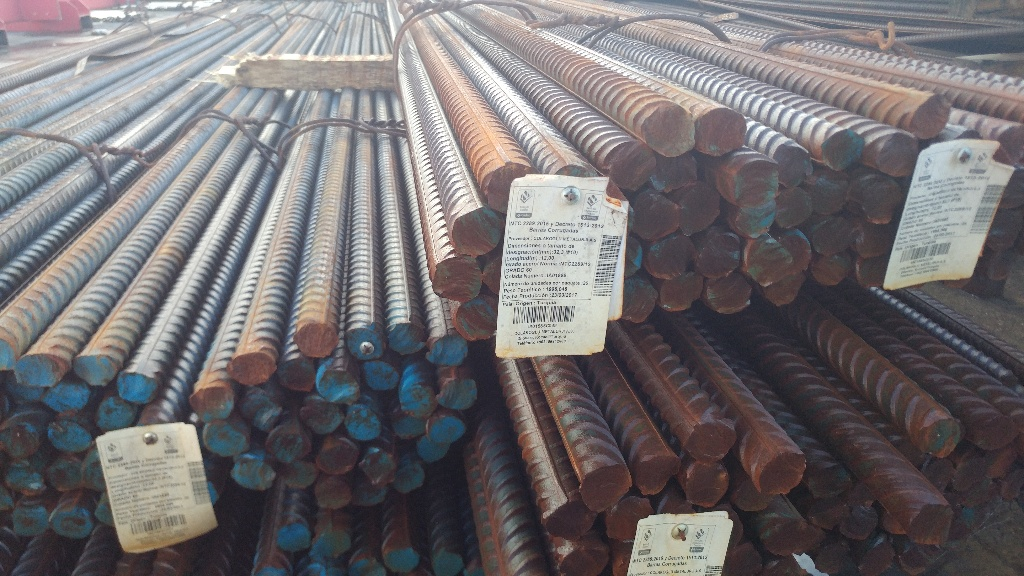dipstick: (696, 108, 747, 155), (630, 193, 680, 239), (583, 463, 631, 510), (647, 107, 693, 156), (432, 256, 481, 300), (453, 208, 498, 255), (489, 164, 534, 211), (680, 185, 721, 236), (862, 178, 906, 223), (760, 452, 806, 494), (748, 240, 790, 285), (607, 499, 654, 539), (609, 146, 655, 186), (697, 234, 740, 276), (457, 299, 501, 340), (689, 423, 735, 462), (736, 161, 776, 205), (686, 463, 727, 505), (812, 218, 858, 255), (647, 237, 688, 278), (985, 208, 1024, 251), (14, 355, 68, 386), (823, 131, 865, 170), (911, 95, 950, 137), (299, 397, 343, 434), (659, 274, 703, 311), (706, 277, 750, 314), (879, 135, 918, 176), (203, 421, 248, 456), (228, 351, 274, 385), (912, 504, 951, 544), (241, 388, 279, 429), (317, 438, 358, 476), (813, 172, 850, 214), (545, 505, 592, 538), (622, 279, 657, 322), (764, 520, 807, 555), (776, 146, 812, 187), (978, 414, 1019, 450), (317, 367, 359, 402), (72, 355, 116, 388), (736, 201, 775, 238), (776, 187, 812, 227), (811, 464, 852, 499), (267, 429, 309, 463), (636, 457, 678, 491), (901, 544, 947, 575), (560, 547, 608, 576), (6, 461, 45, 496), (923, 419, 958, 458), (191, 387, 232, 420), (295, 324, 336, 357), (653, 157, 694, 190), (1, 424, 39, 459), (857, 223, 895, 258), (46, 422, 89, 452), (811, 255, 852, 286), (95, 399, 134, 431), (47, 384, 90, 413), (234, 459, 275, 489), (346, 404, 380, 440), (51, 507, 91, 537), (388, 322, 424, 355), (842, 506, 878, 539), (363, 448, 395, 485), (439, 378, 476, 410), (346, 328, 384, 359), (115, 373, 154, 403), (48, 457, 82, 491), (316, 478, 352, 510), (727, 544, 763, 576), (765, 277, 806, 305), (399, 386, 436, 417), (954, 456, 986, 491), (811, 502, 848, 532), (313, 530, 351, 559), (12, 505, 46, 537), (817, 542, 852, 573), (736, 481, 773, 510), (429, 337, 467, 365), (363, 361, 399, 390), (999, 168, 1024, 209), (986, 446, 1017, 479), (861, 543, 894, 574), (280, 361, 314, 391), (430, 416, 465, 443), (1004, 258, 1024, 305), (998, 125, 1024, 161), (856, 258, 887, 288), (280, 463, 317, 487), (277, 524, 310, 550), (789, 235, 810, 275), (988, 250, 1016, 280), (81, 452, 103, 490), (763, 556, 804, 576), (385, 547, 419, 571), (961, 500, 990, 527), (396, 464, 422, 494), (432, 552, 463, 576), (1002, 467, 1024, 500), (353, 484, 385, 506), (394, 417, 426, 437), (418, 440, 449, 460), (95, 495, 114, 527)
